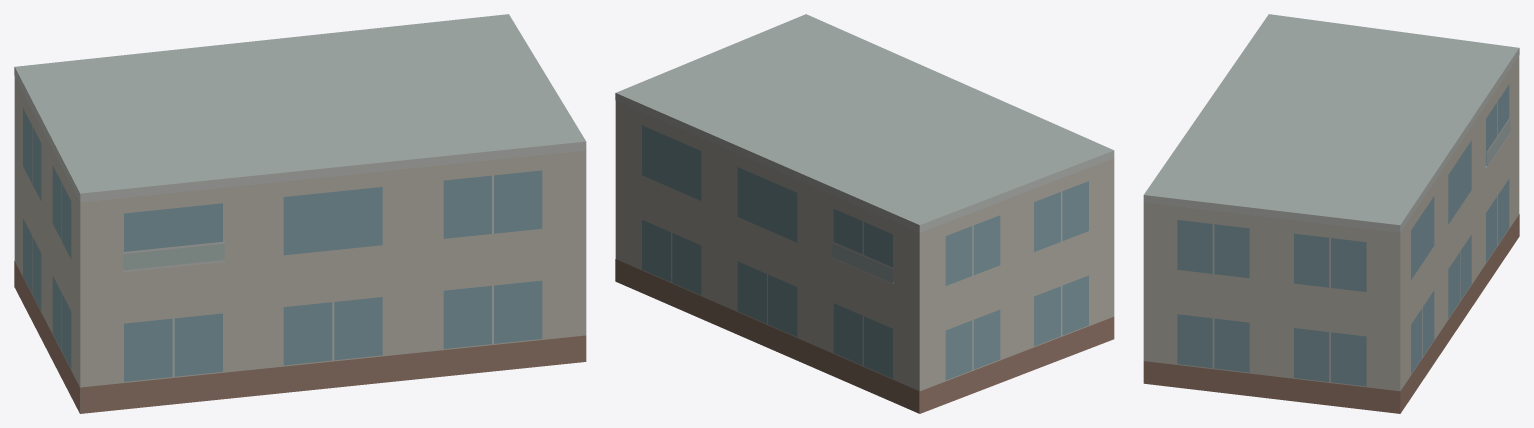
File: survey-upis-32670279.glb
3 renders of one model, left to right at view 1: azimuth 30°, elevation 25°; view 2: azimuth 150°, elevation 25°; view 3: azimuth 270°, elevation 25°, orthographic. The views are drawn at different scales.
Parts seen in each view (by area): view 1: survey-upis-32670279.tmp; view 2: survey-upis-32670279.tmp; view 3: survey-upis-32670279.tmp.
Part boxes in pixels (left/top/right/bottom): survey-upis-32670279.tmp: left=14, top=14, right=586, bottom=413; survey-upis-32670279.tmp: left=615, top=14, right=1114, bottom=413; survey-upis-32670279.tmp: left=1143, top=14, right=1519, bottom=413.
Size of the model in its own units: 14.66 by 6.1 by 11.03.
